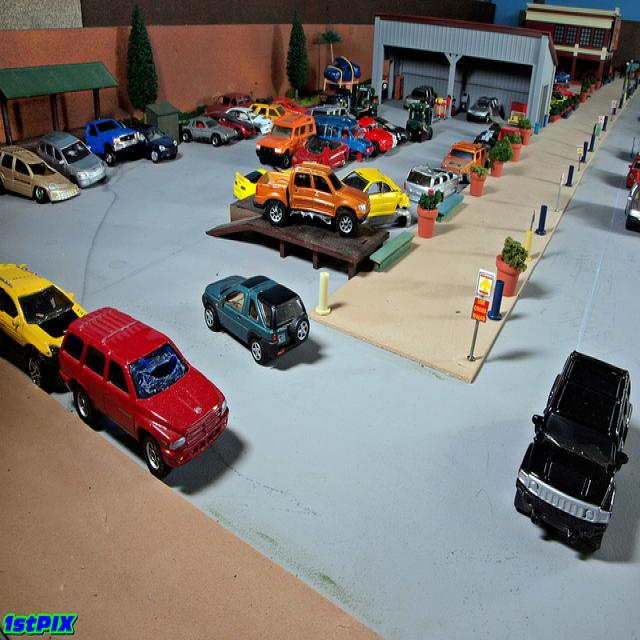Vehicle: (82, 53, 639, 204), (56, 304, 232, 478), (514, 350, 634, 553), (0, 258, 90, 394), (200, 274, 310, 367), (256, 162, 370, 236), (0, 143, 79, 204), (36, 130, 106, 190), (340, 166, 410, 224), (293, 134, 349, 170), (133, 125, 179, 164), (180, 117, 238, 147), (203, 112, 256, 140), (352, 81, 379, 119), (624, 182, 638, 232)
